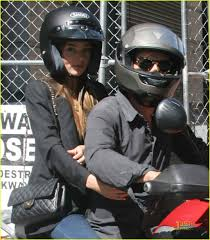helmet: (114, 20, 187, 97), (39, 7, 103, 79)
